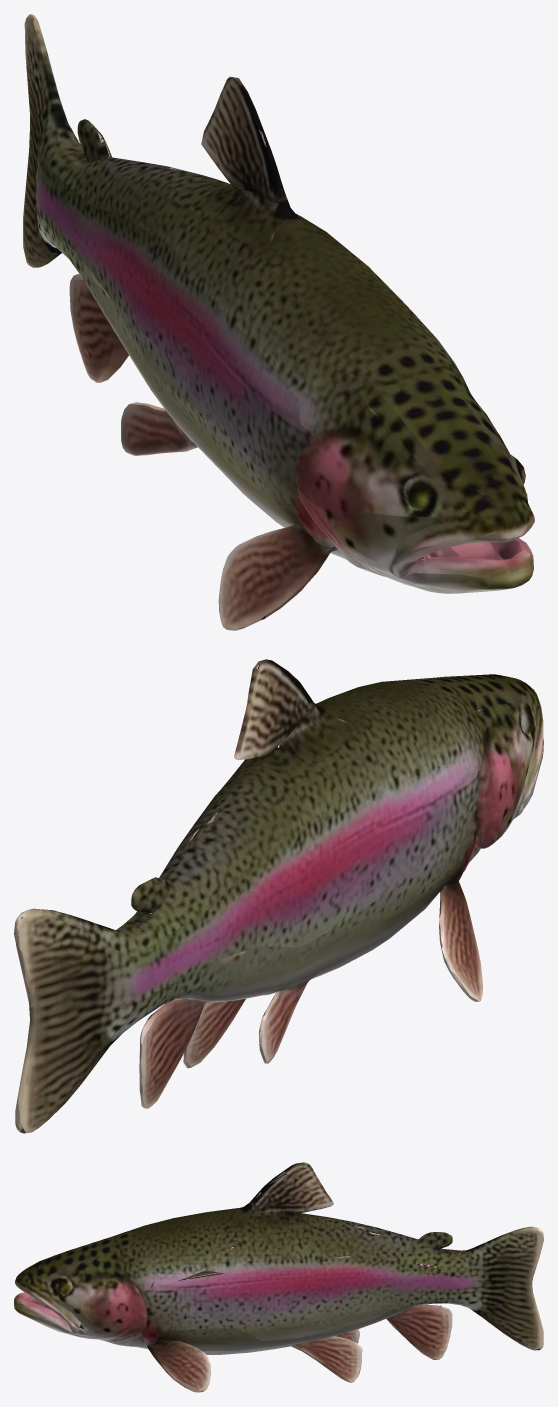
File: rainbow_trout.glb
The picture shows the model from 3 angles, top to bottom: view 1: azimuth 30°, elevation 25°; view 2: azimuth 150°, elevation 25°; view 3: azimuth 270°, elevation 25°; orthographic projection. The views are drawn at different scales.
Parts seen in each view (by area): view 1: world; view 2: world; view 3: world.
Part boxes in pixels (x1,y1,x2,y2): world: [23, 14, 534, 630]; world: [14, 659, 543, 1133]; world: [14, 1162, 543, 1392].
Size of the model in its own units: 0.2623 by 0.4536 by 1.
1 material, 1 textured.
